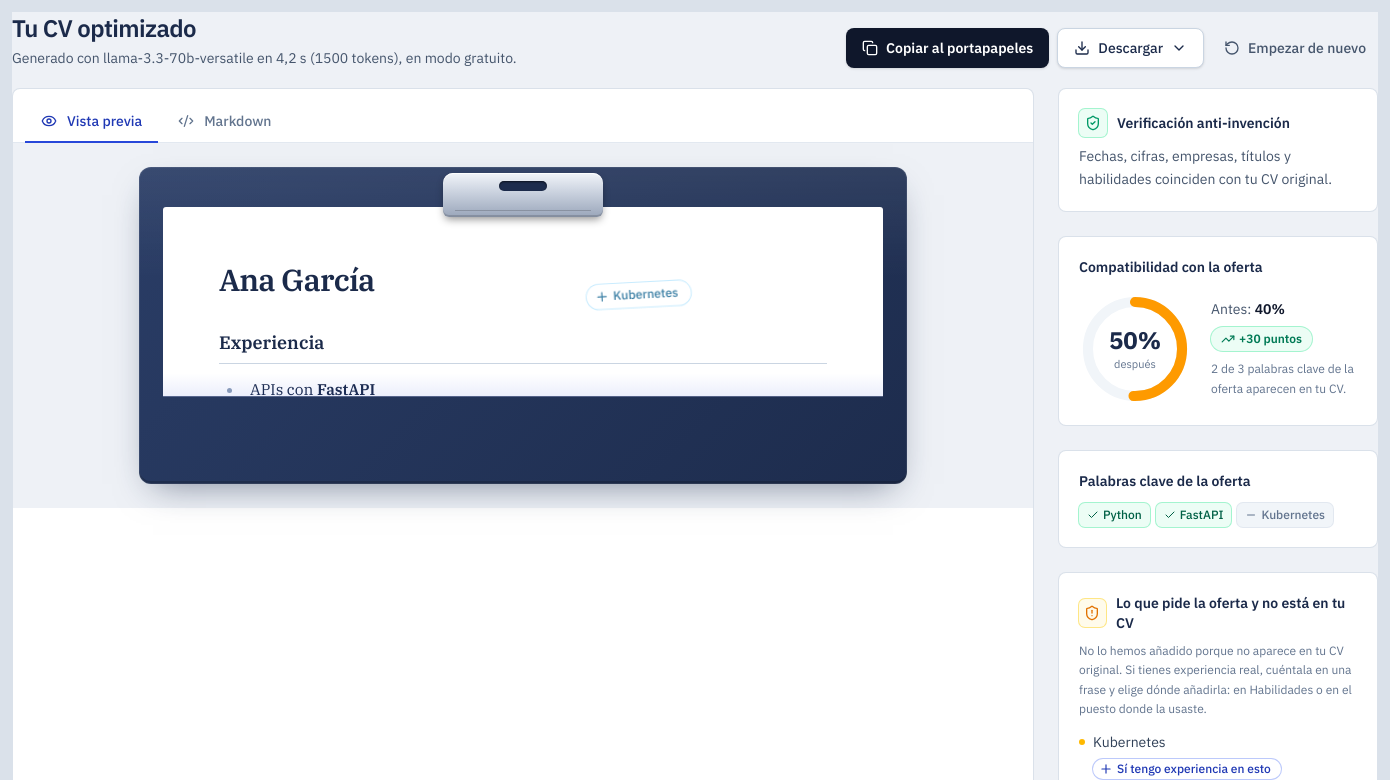
ResultViewer › ofrece la descarga en Word, PDF y Markdown
Click the button "Descargar" at [1131, 48], box [1057,28,1204,68]
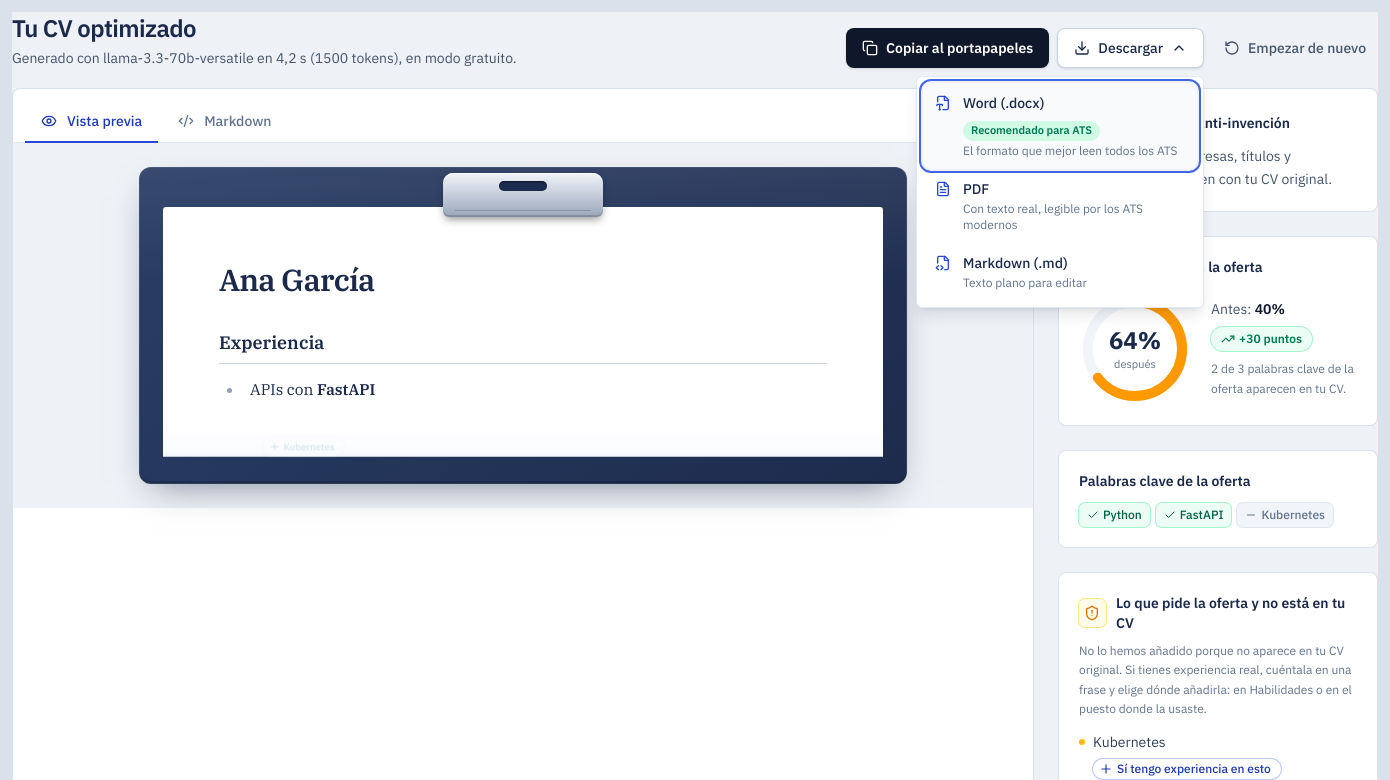
Press Escape
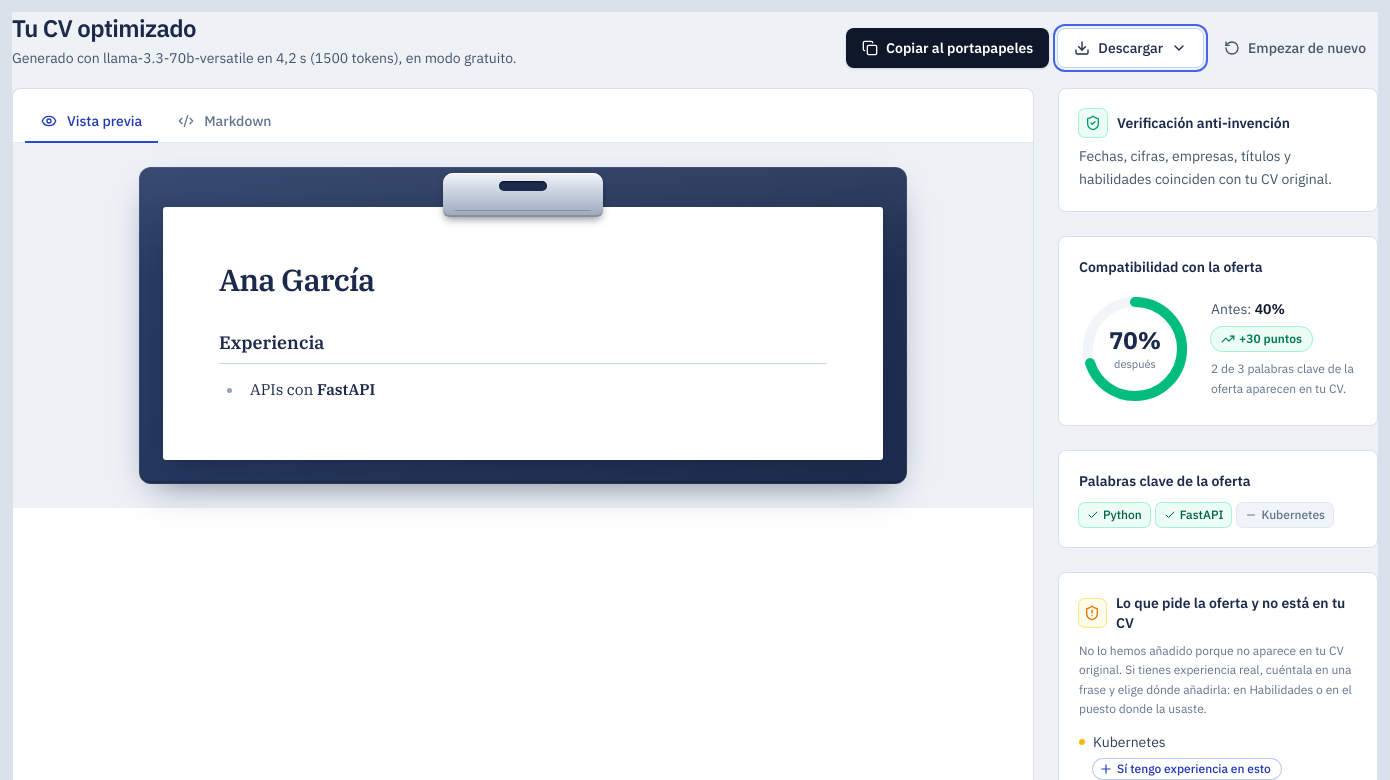
Result: the menu is gone
